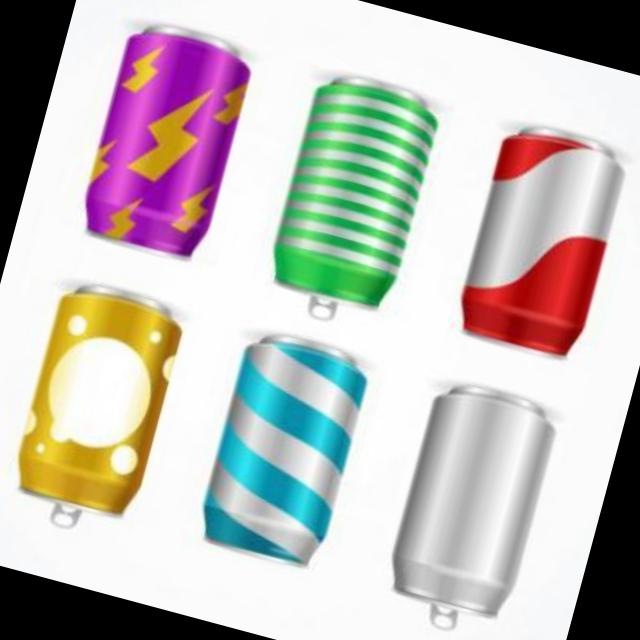metal: (394, 389, 554, 631), (276, 83, 437, 321), (20, 291, 181, 528), (87, 34, 250, 258), (206, 341, 366, 567), (463, 133, 624, 356)
